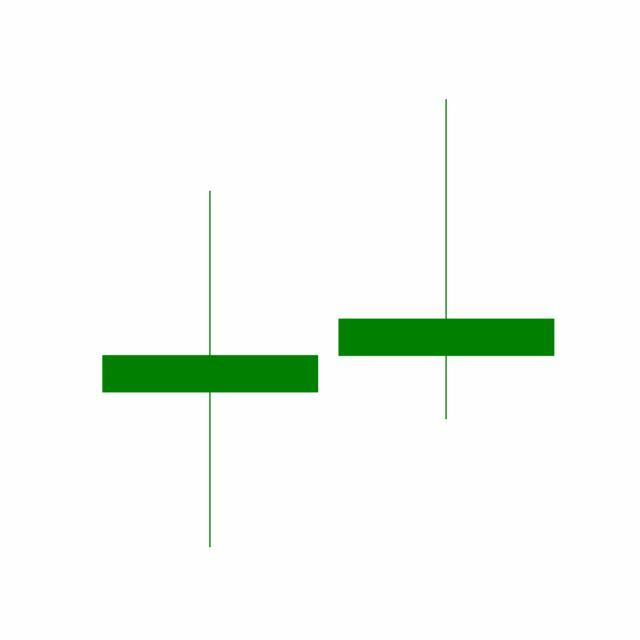Spinning Top: (328, 96, 566, 424)
